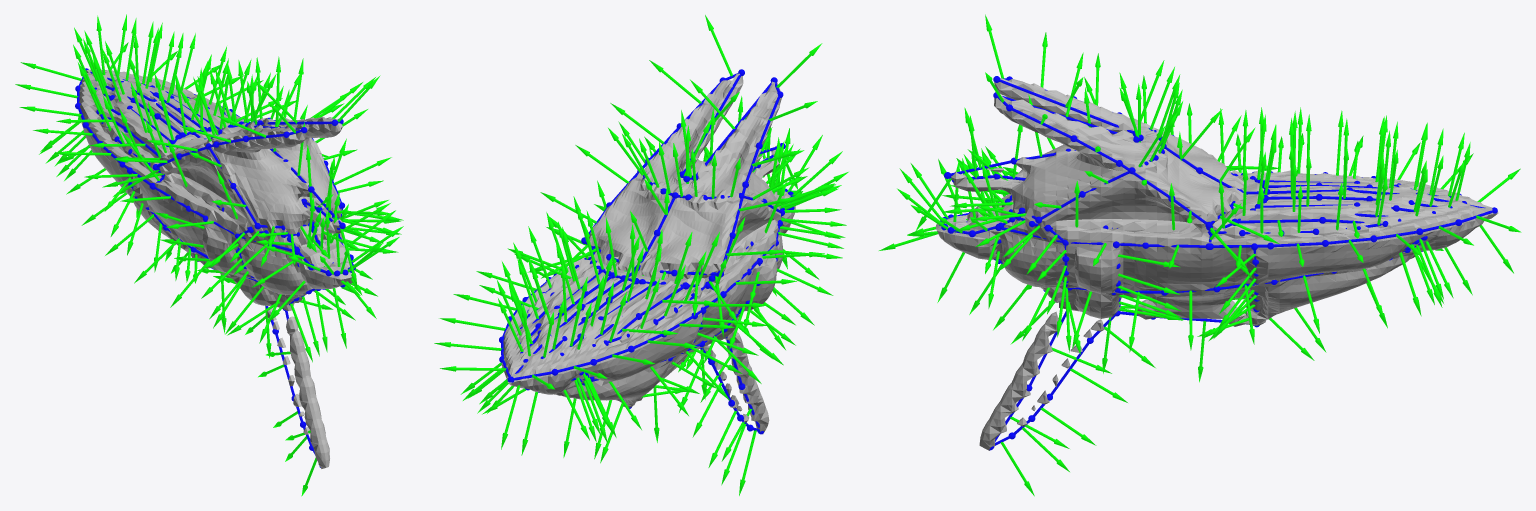
Rendered from ils_boat.gltf.
The picture shows the model from 3 angles, left to right: view 1: azimuth 30°, elevation 25°; view 2: azimuth 150°, elevation 25°; view 3: azimuth 270°, elevation 25°; orthographic projection. The views are drawn at different scales.
Size of the model in its own units: 0.4348 by 0.7149 by 0.919.
